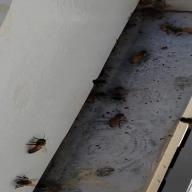Bee: (9, 171, 57, 192), (20, 133, 48, 155), (167, 113, 192, 130)
